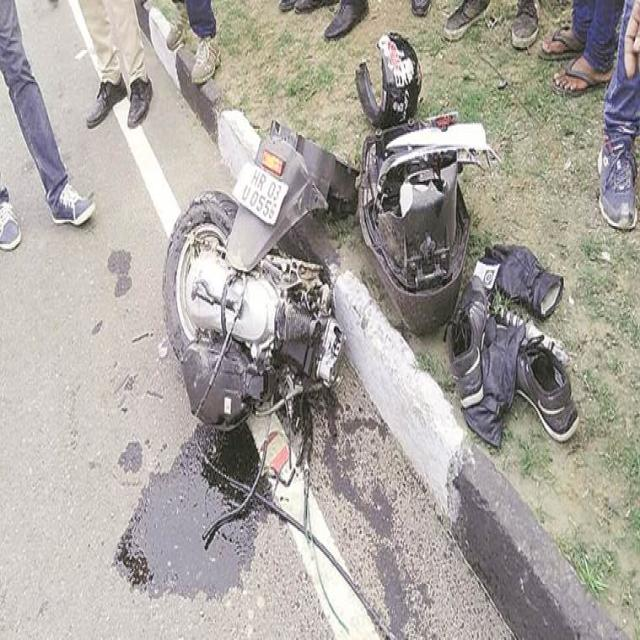accident: (162, 34, 490, 426)
